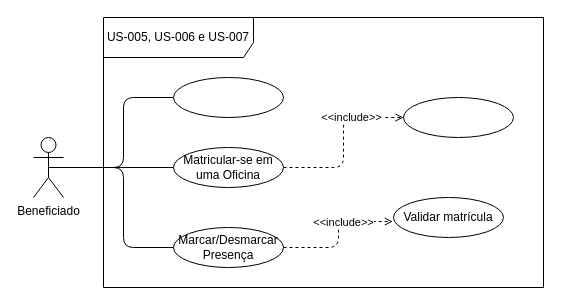
Some shapes in this 561 by 305 pixel diagram are drawn without their labels. The centre of each missing label's shape, as x and y in pixels:
"Verificar número de vagas" goes at point 458,117.
"Visualizar Oficinas Disponíveis" goes at point 228,97.
